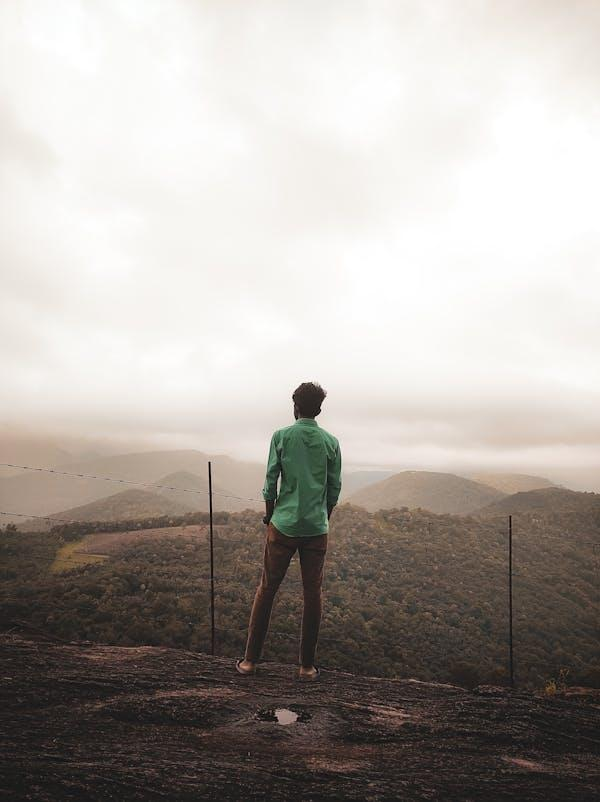Human: (226, 356, 357, 683)
